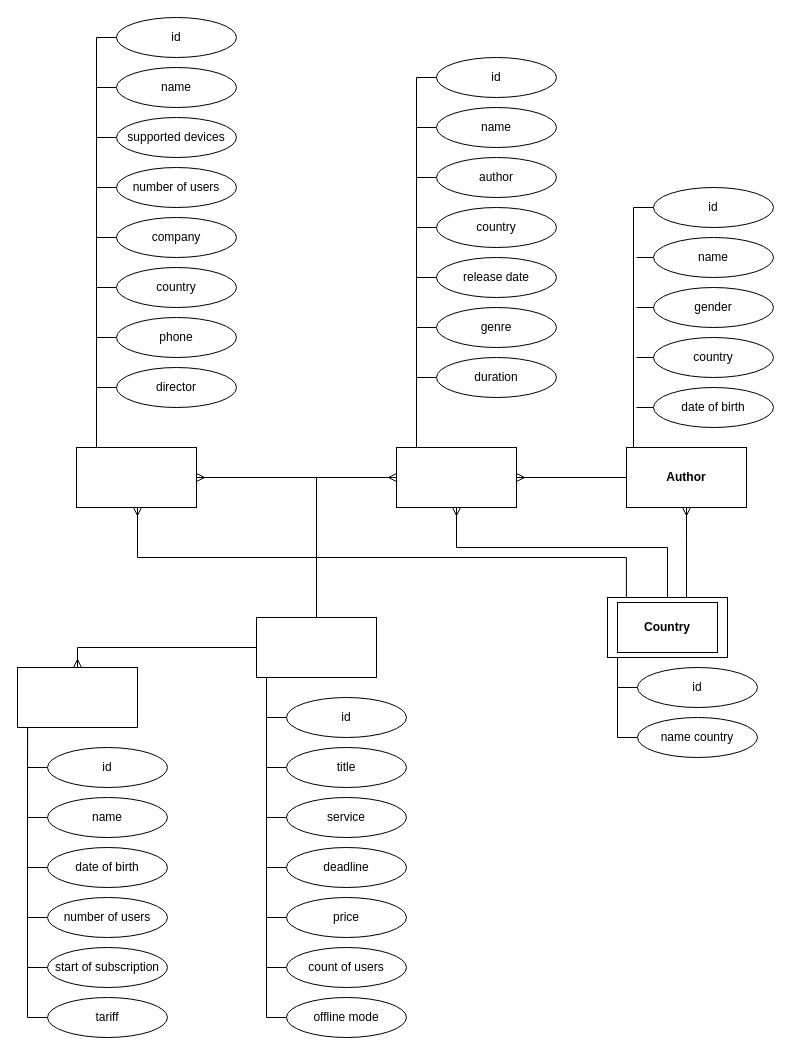
Some shapes in this 791 by 1055 pixel diagram are drawn without their labels. The shapes that lost their labels are listed below. From the top down, each one's centre as x and y in pixels, then its label:
At (x=136, y=477): "Streaming services".
At (x=456, y=477): "Songs".
At (x=316, y=647): "Tariff plan".
At (x=77, y=697): "User".
